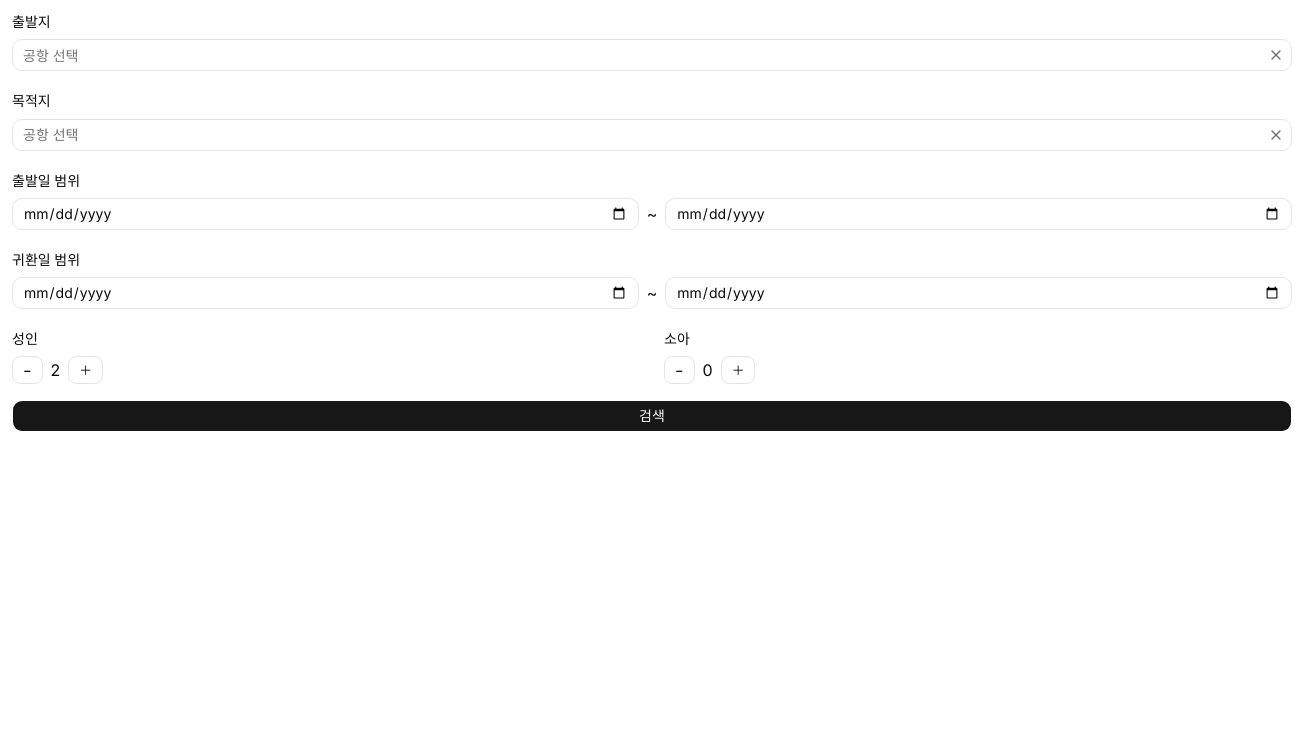
Test case: SearchForm — validation › shows 성인 error when adults is 0 on submit
// Decrease adults from 2 to 0
Click the button named "성인 감소".
click(27, 370)  # box [12, 356, 42, 384]
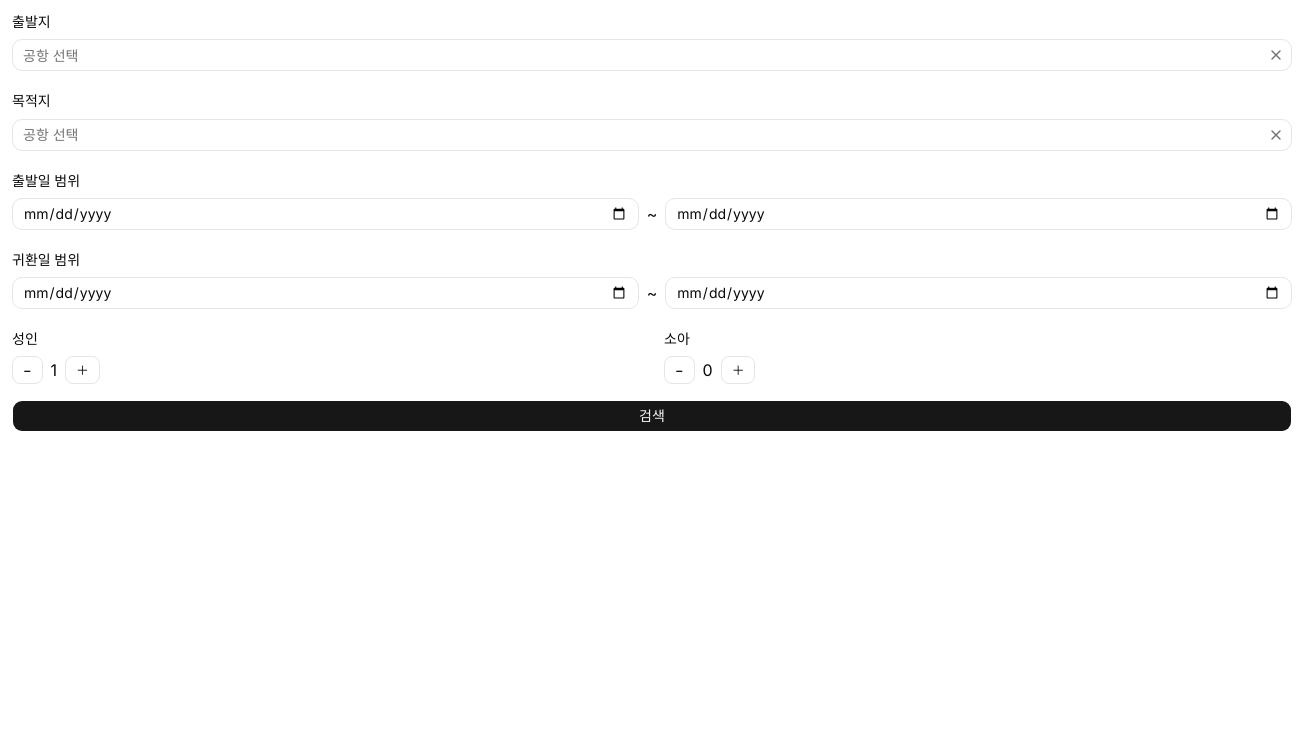
Click the button named "성인 감소".
click(27, 370)  # box [12, 356, 42, 384]
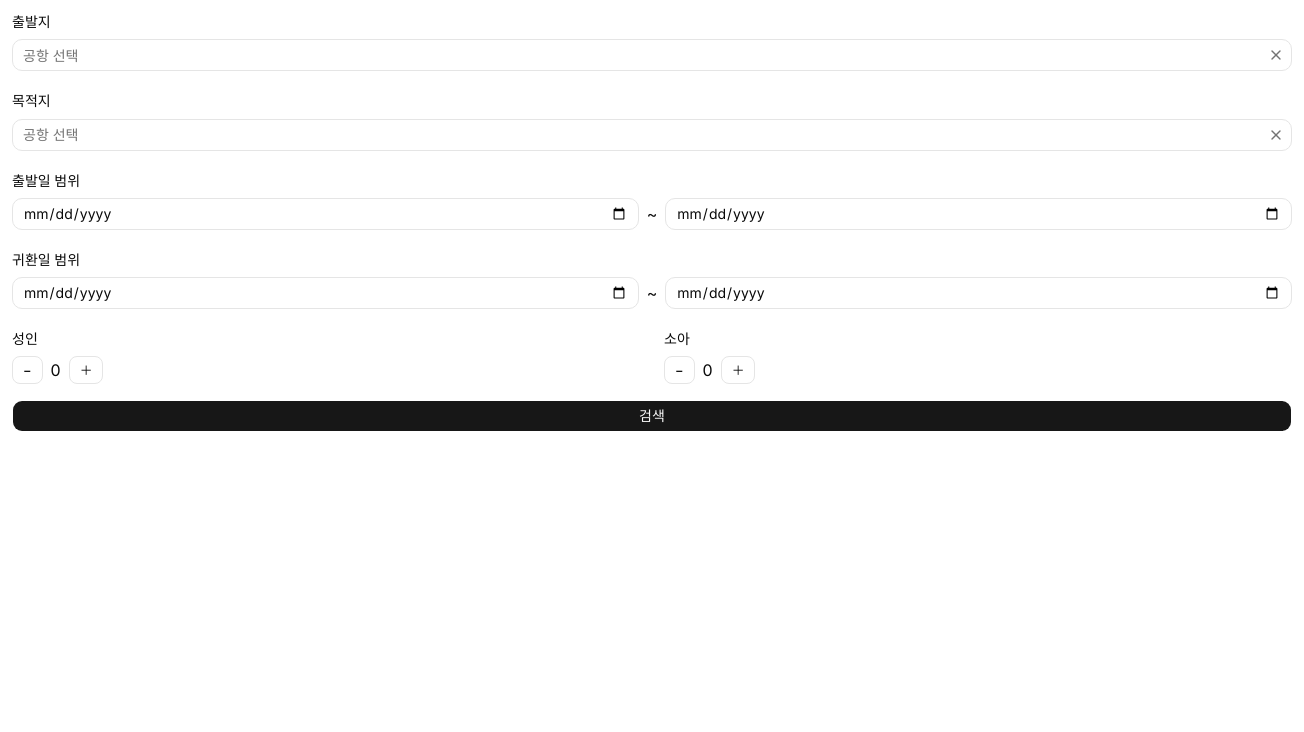
Click the button "검색".
click(652, 416)  # box [12, 400, 1292, 432]
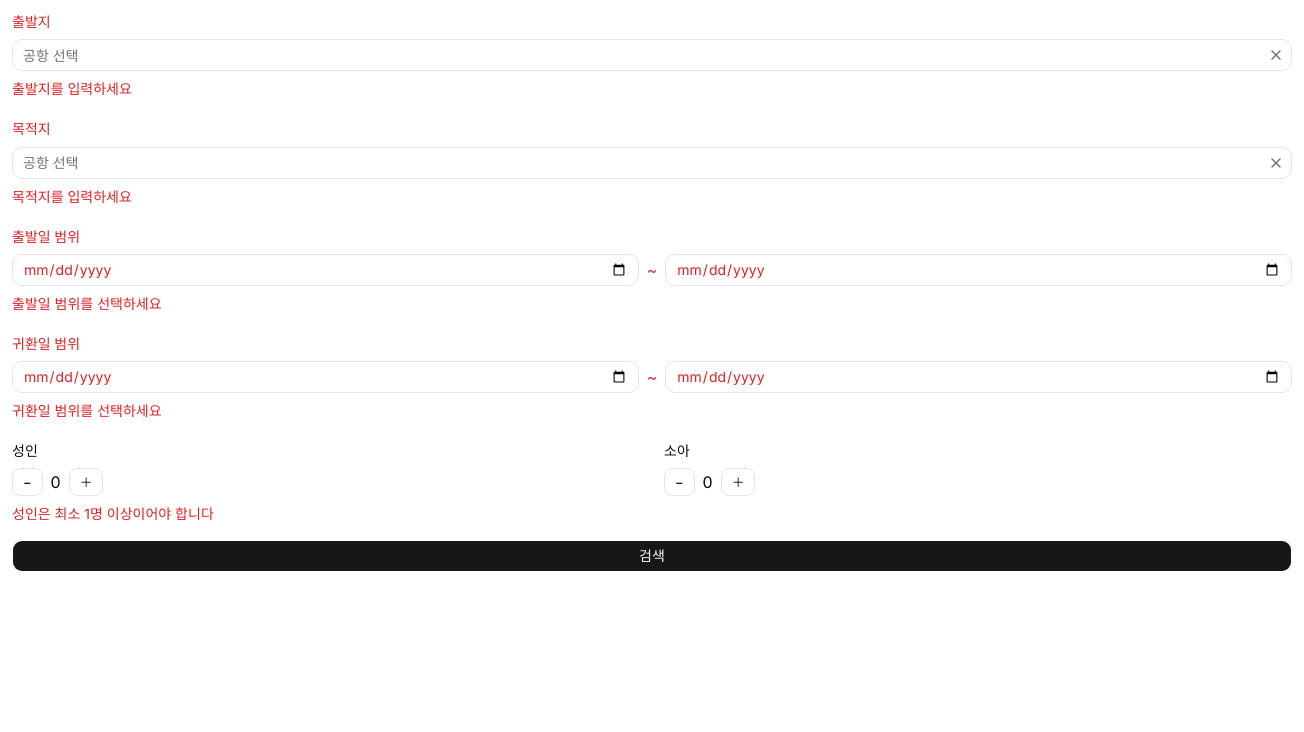
Check: the text "성인은 최소 1명 이상이어야 합니다" is shown, box [12, 505, 214, 522]
